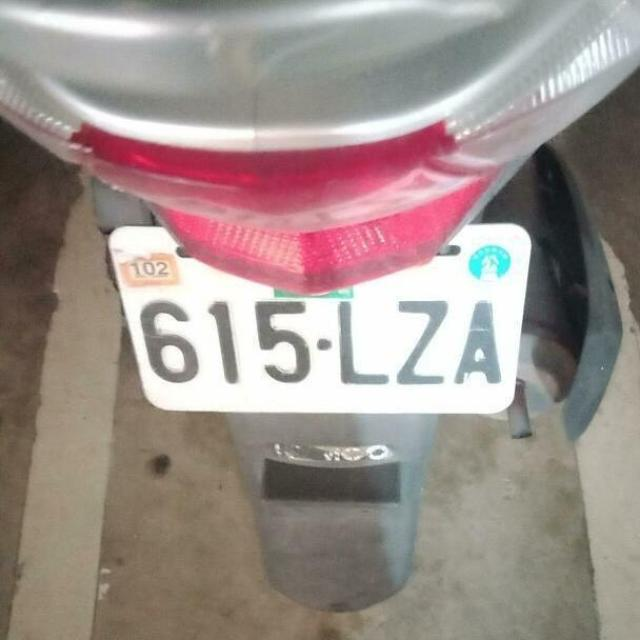W: (91, 190, 543, 446)
